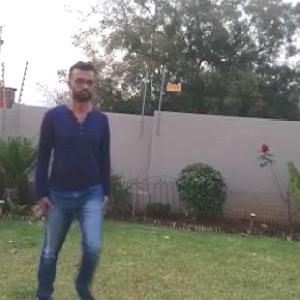follow: (39, 64, 116, 299)
